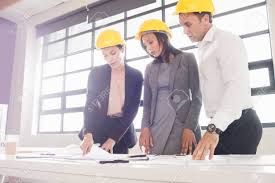Person_wearing_helmet: (173, 0, 219, 25), (93, 25, 126, 58), (133, 17, 174, 43)
